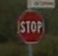stop: (15, 9, 45, 44)
